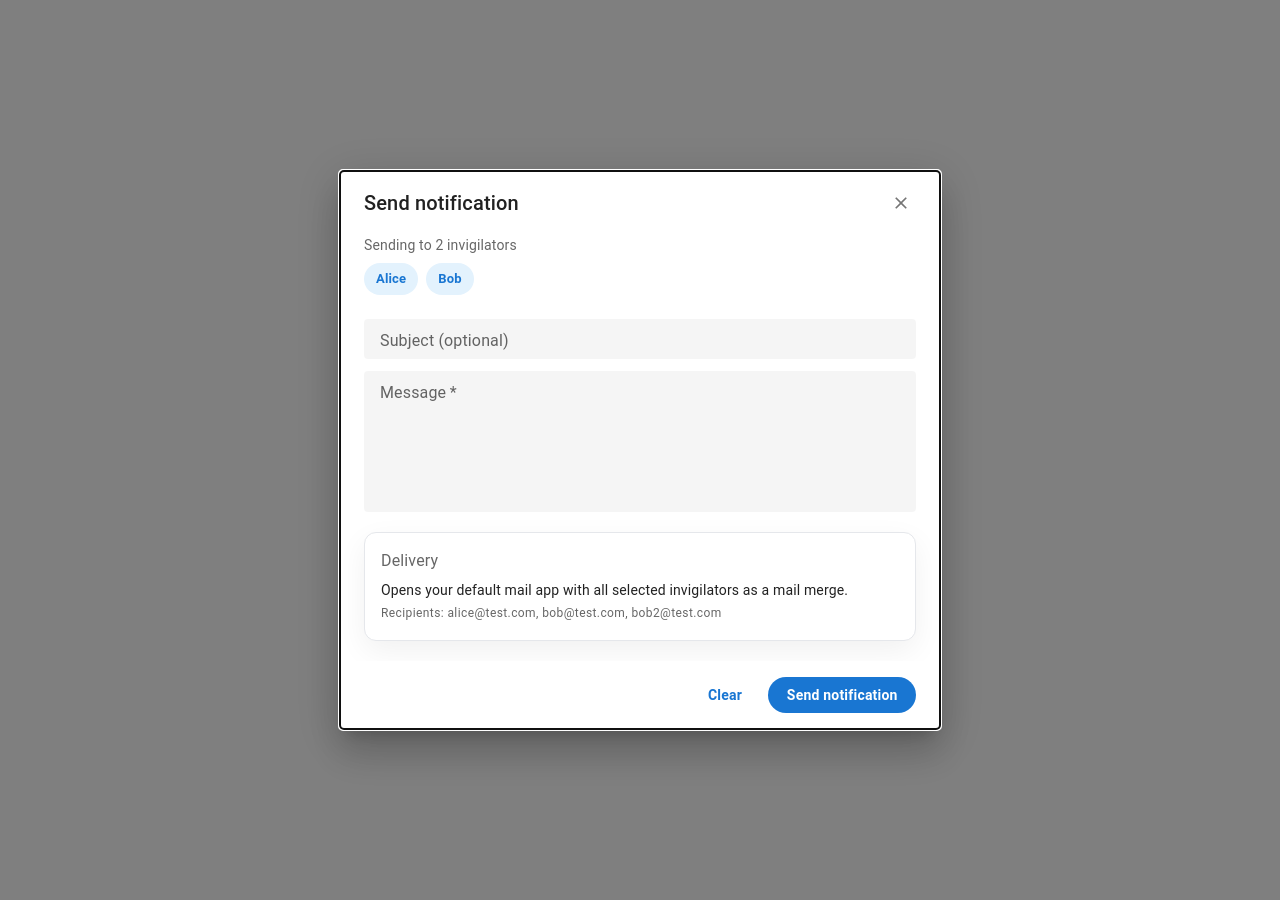
it: Components - NotifyDialog › clears subject and message when Clear is clicked
Type "Update" into the field labelled "Subject (optional)".
click(640, 339); type("Update")  # box [380,328,900,351]
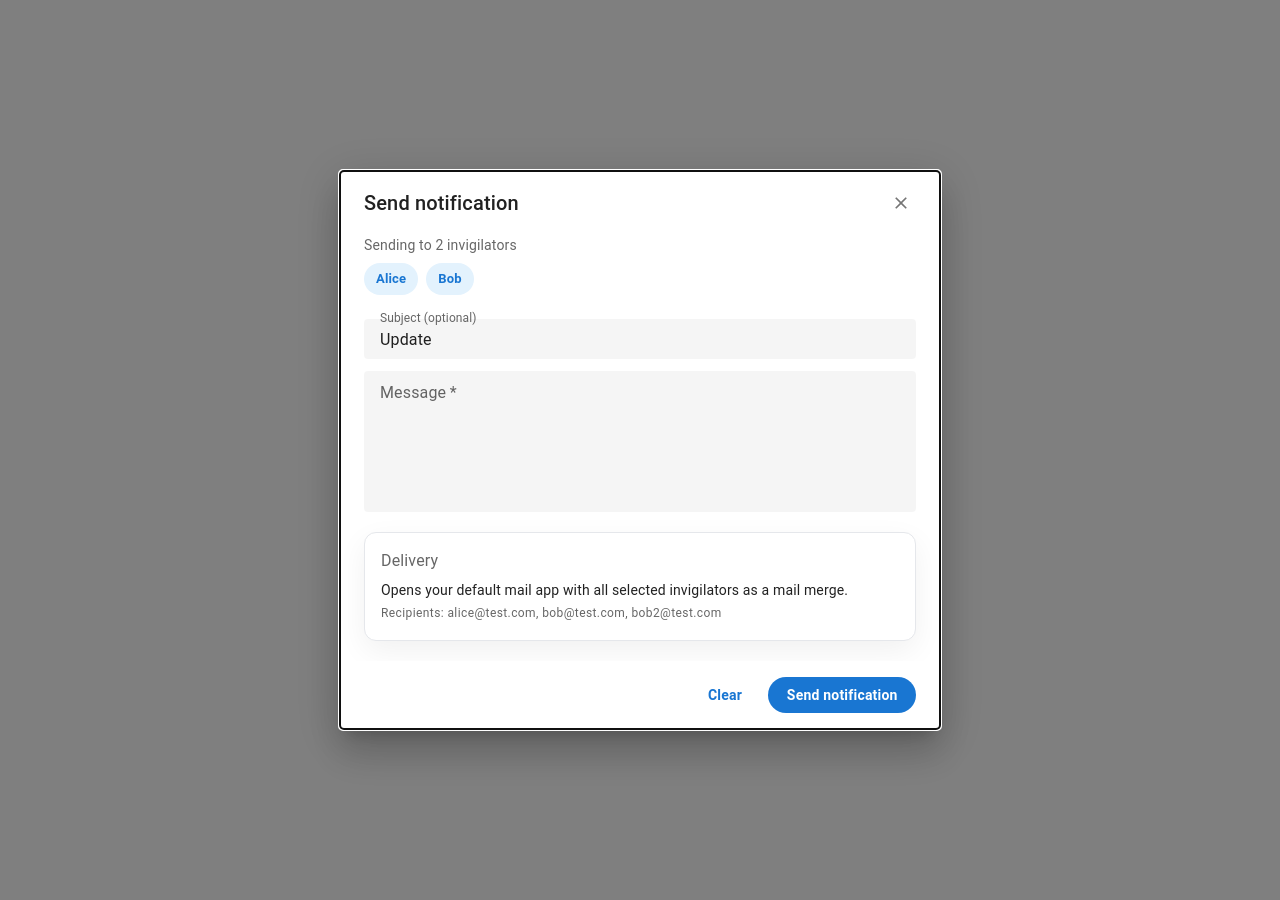
Type "Please review." into the text box labelled "Message *".
click(640, 442); type("Please review.")  # box [394,388,886,496]
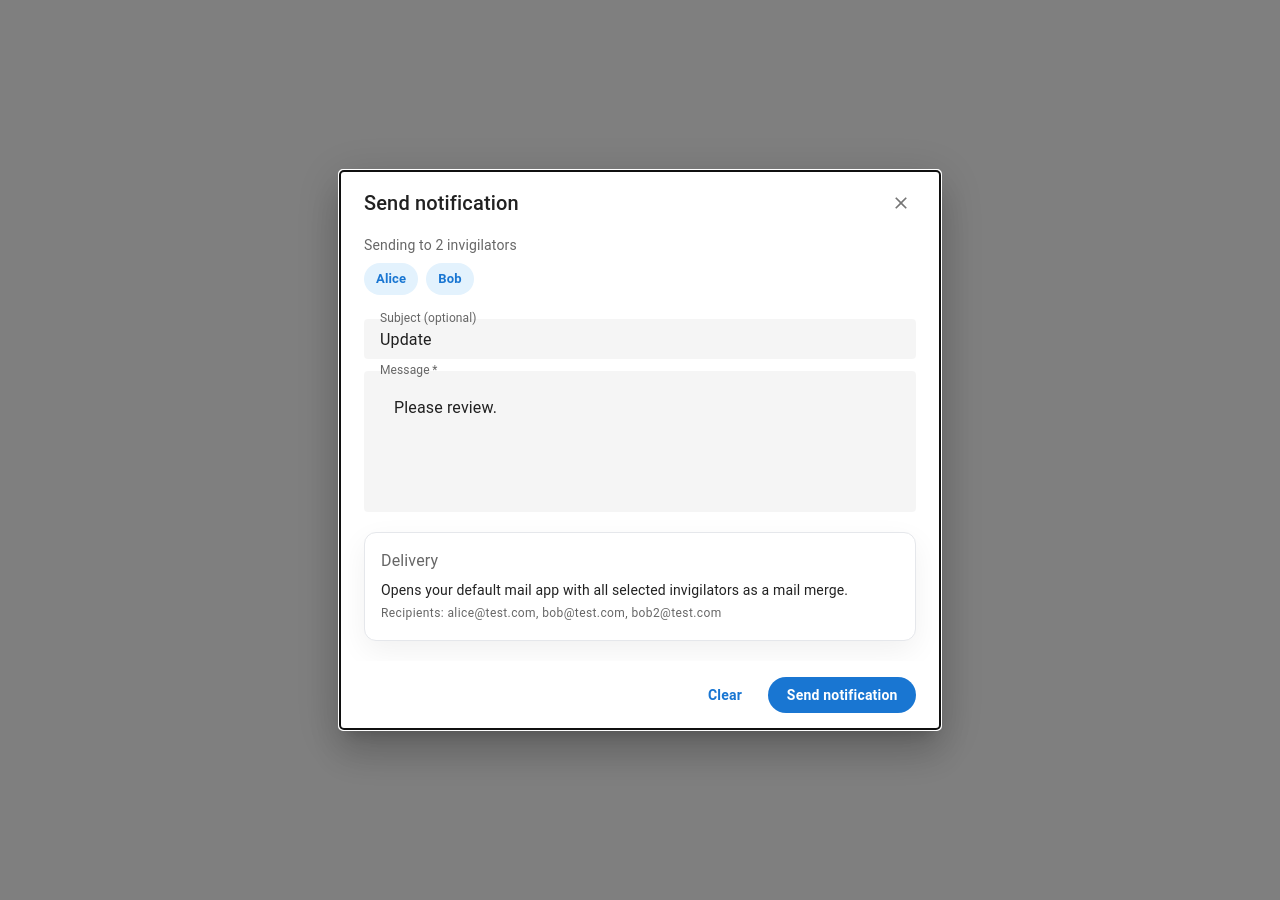
Click the button "Clear".
click(725, 695)  # box [690,677,760,713]
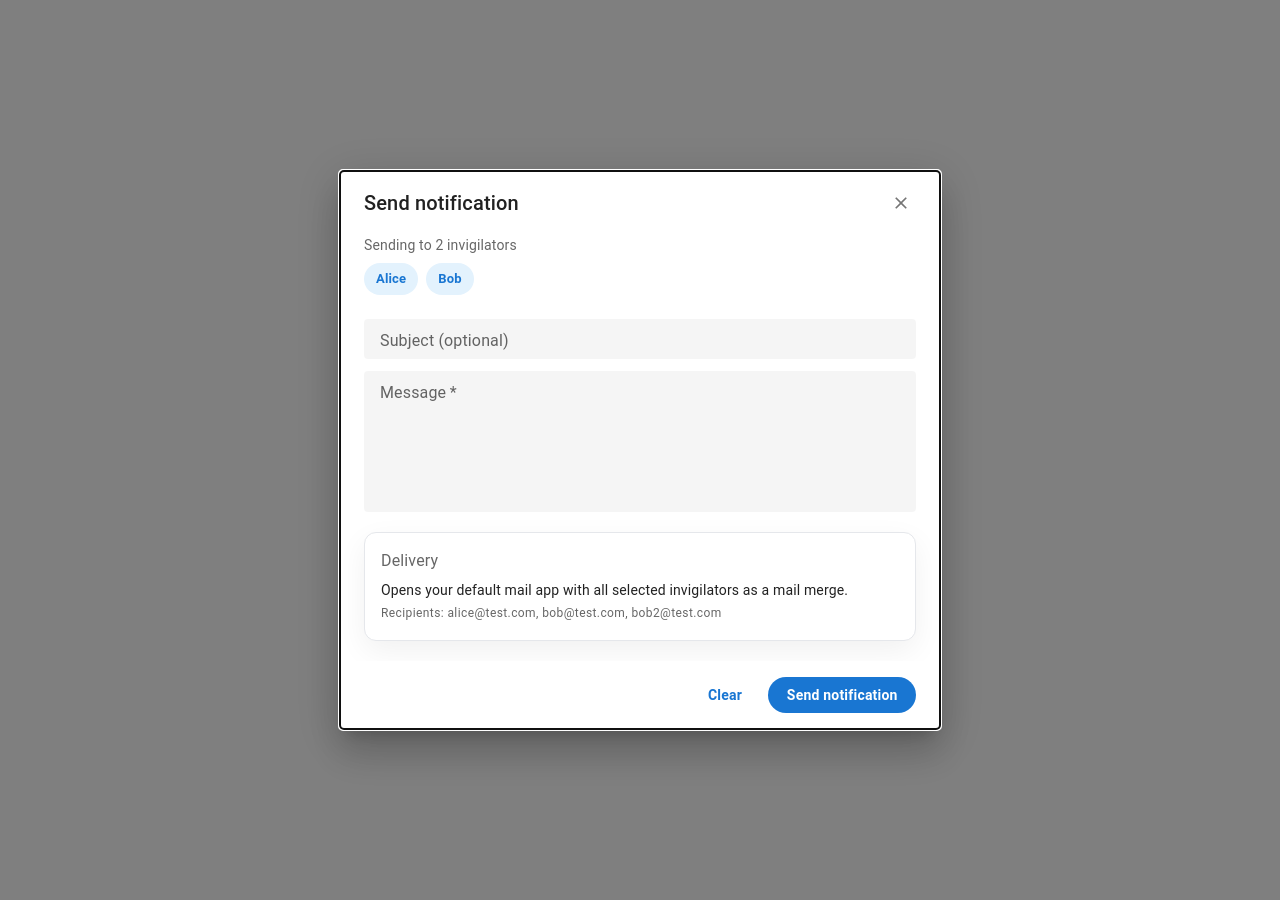
Now the field labelled "Subject (optional)" is empty, box [380,328,900,351]
Now the text box labelled "Message *" is empty, box [394,388,886,496]
